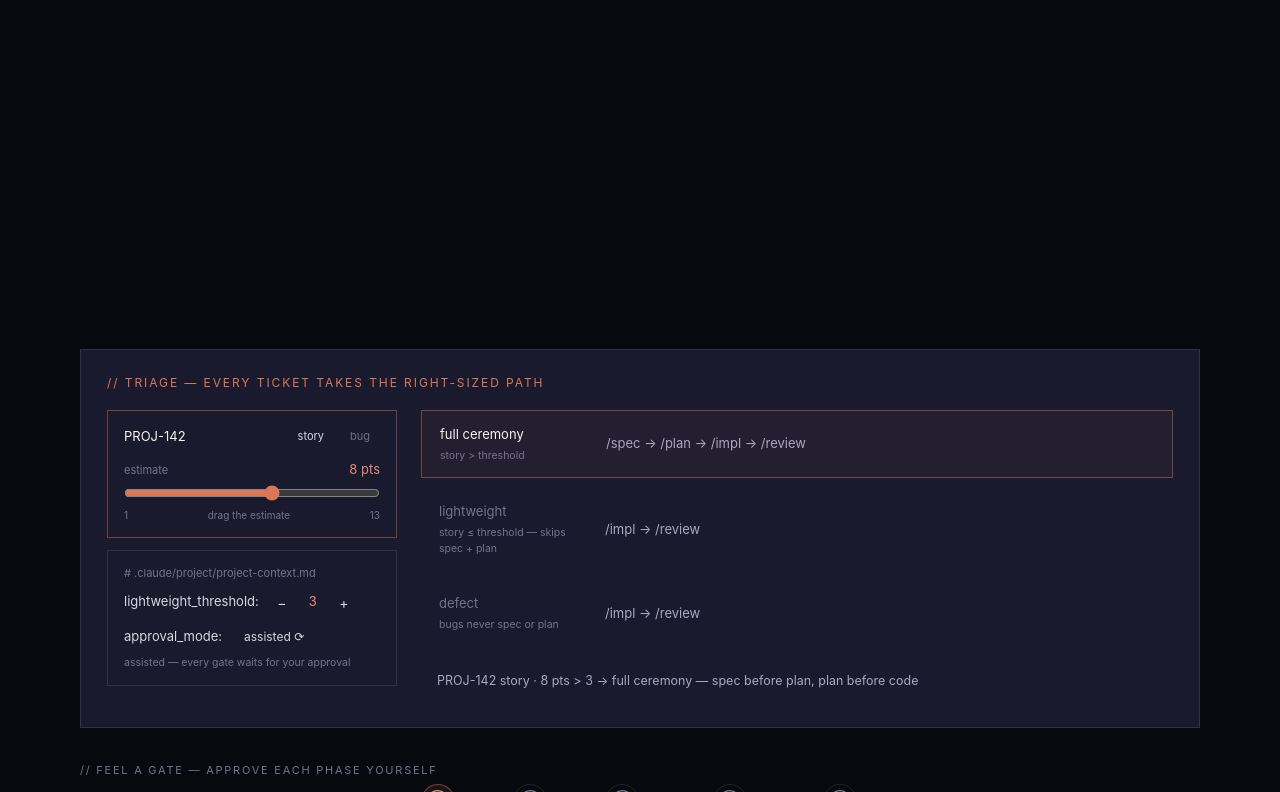
Test: ControlSection › AC4: a config change re-syncs triage lanes, gate count, and the right-terminal route name together, and restarts the gate walk at gate 0
Click the button named "increase lightweight threshold".
click(344, 602)  # box [331,589,357,615]
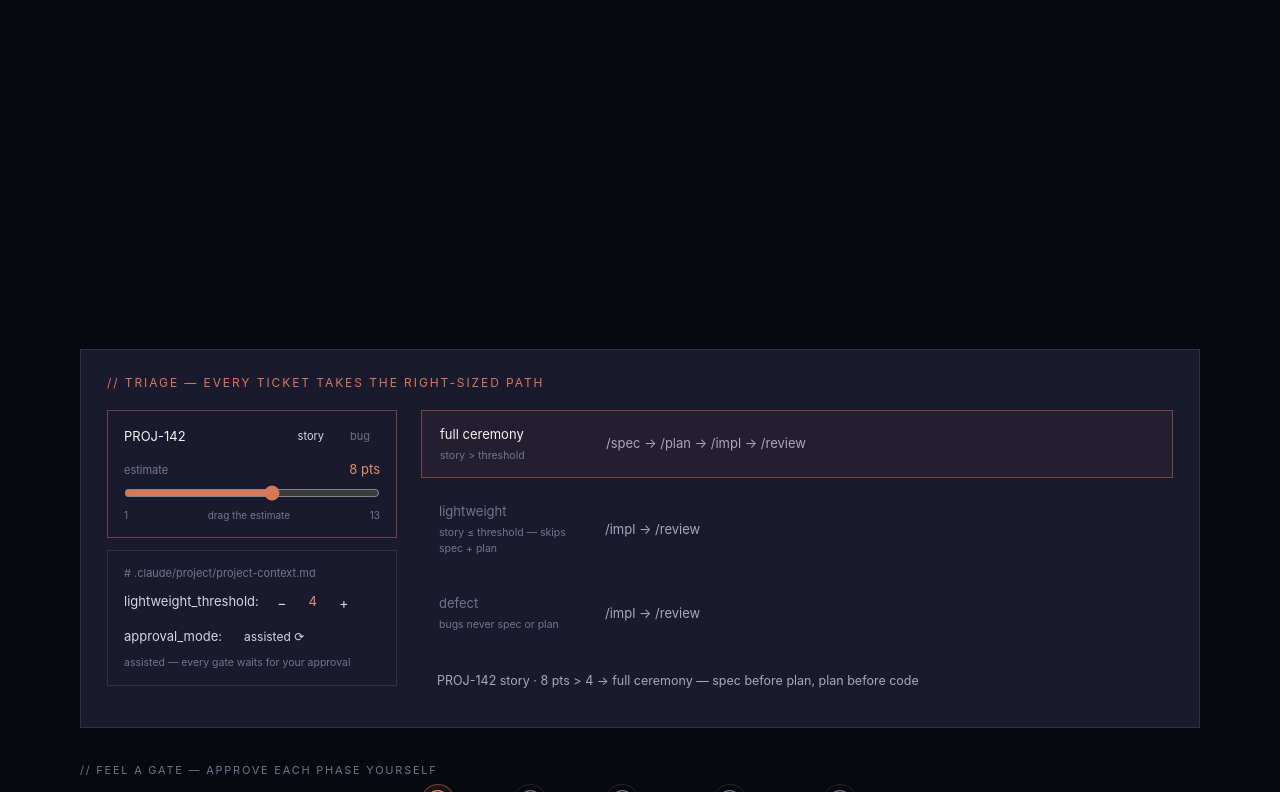
Click the button named "increase lightweight threshold".
click(344, 602)  # box [331,589,357,615]
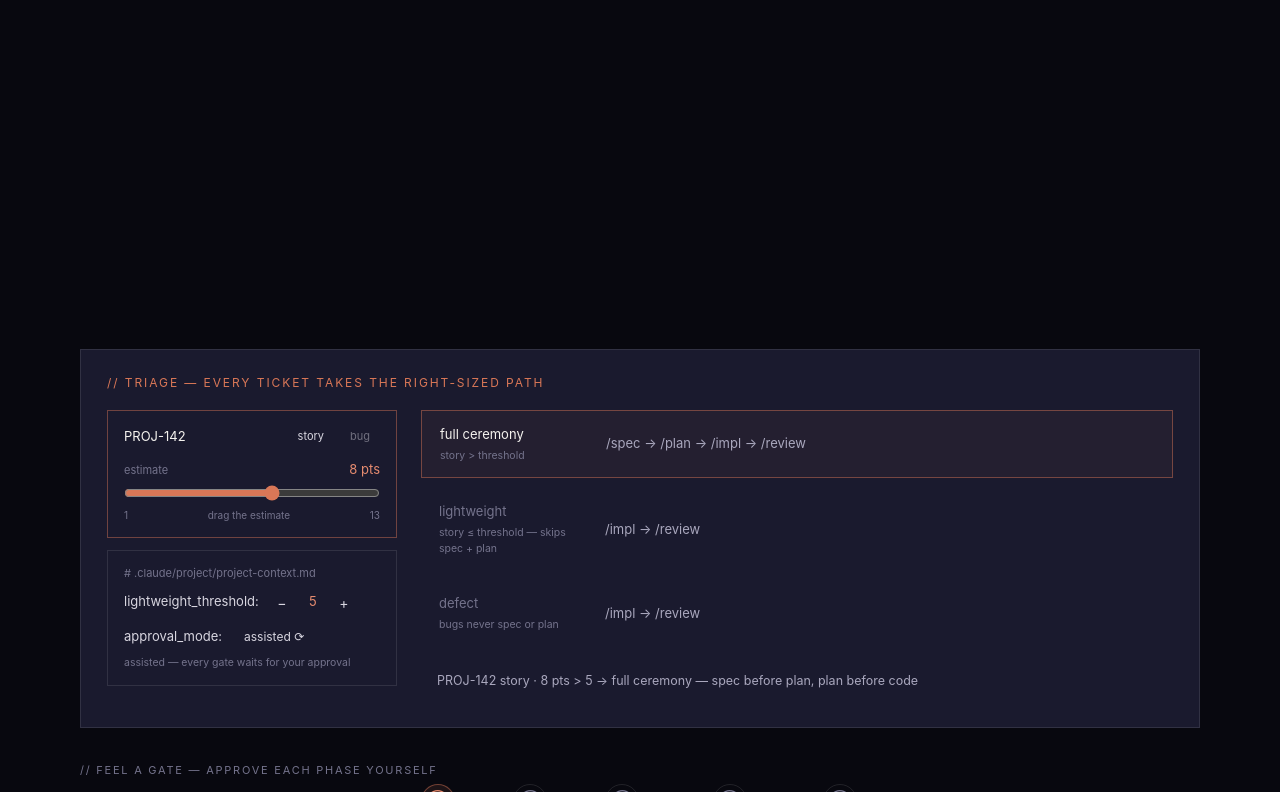
Click the button named "increase lightweight threshold".
click(344, 602)  # box [331,589,357,615]
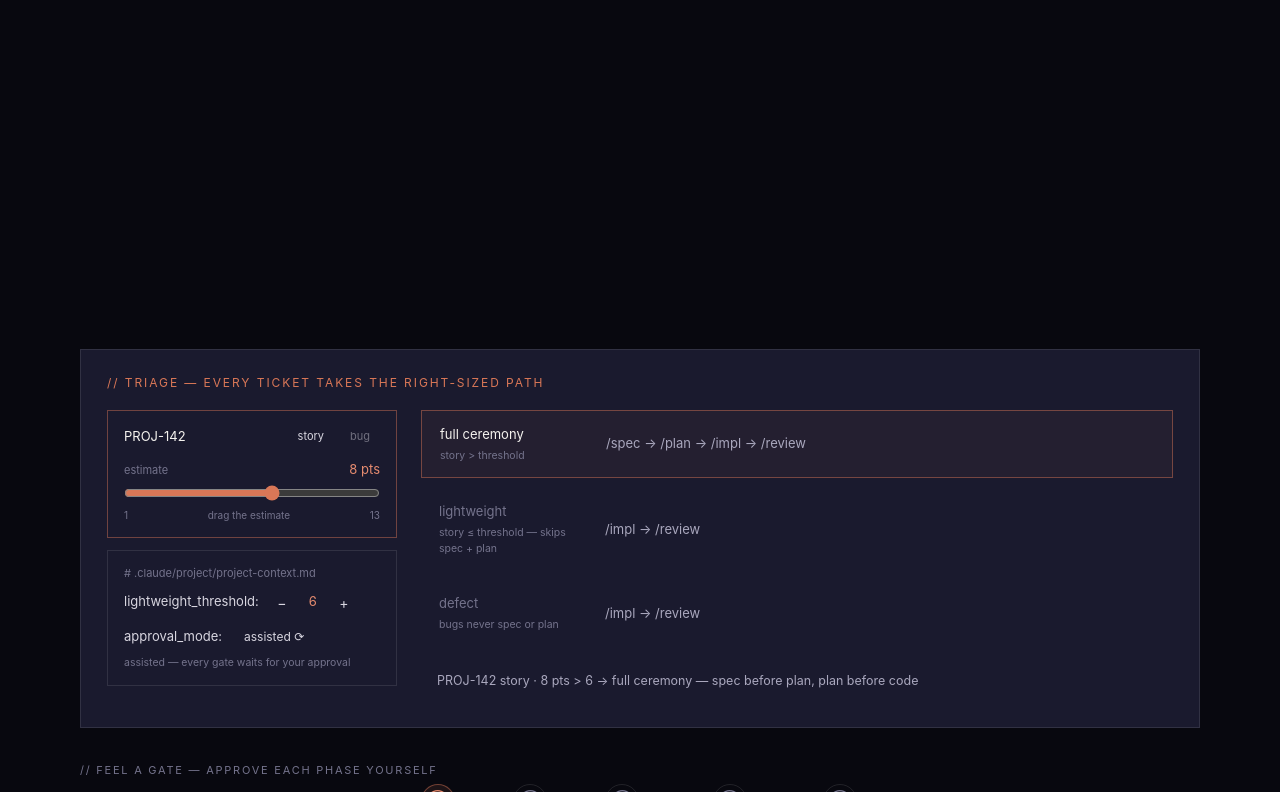
Click the button named "increase lightweight threshold".
click(344, 602)  # box [331,589,357,615]
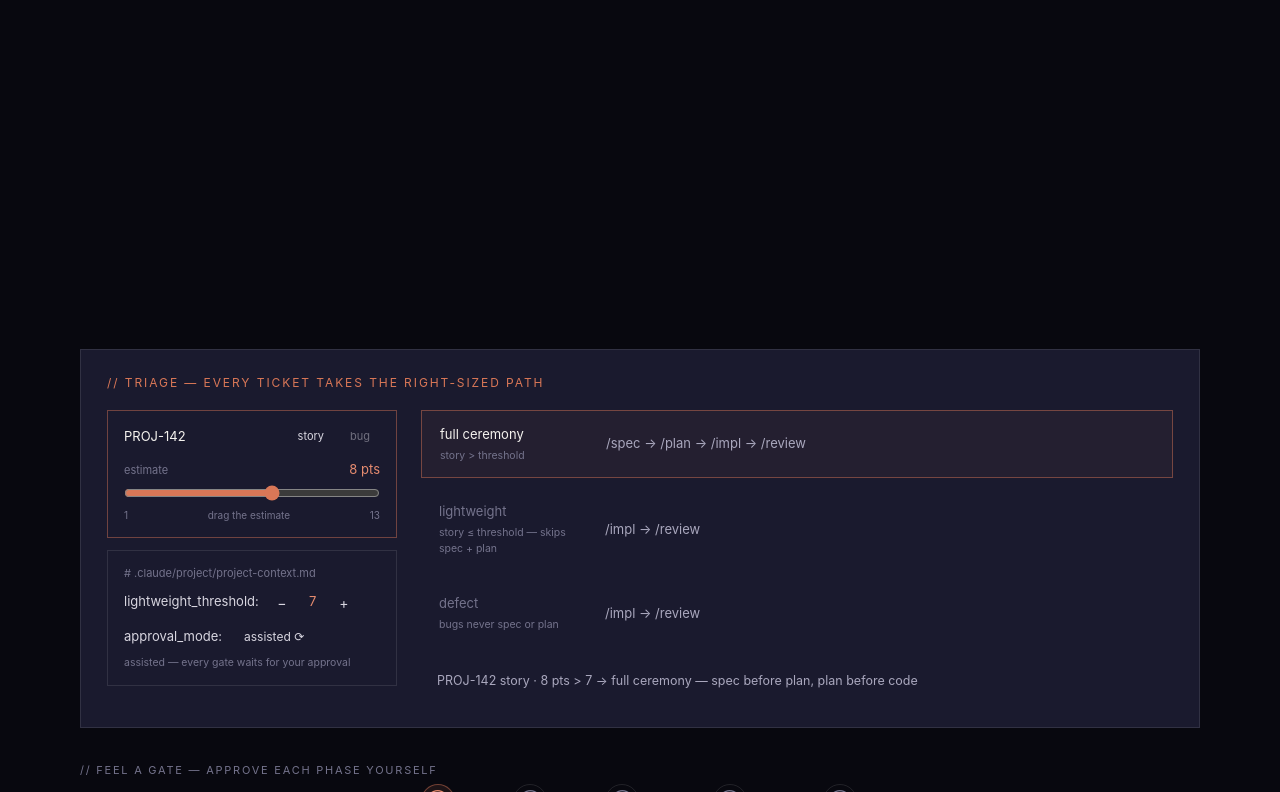
Click the button named "increase lightweight threshold".
click(344, 602)  # box [331,589,357,615]
(page scrolled)
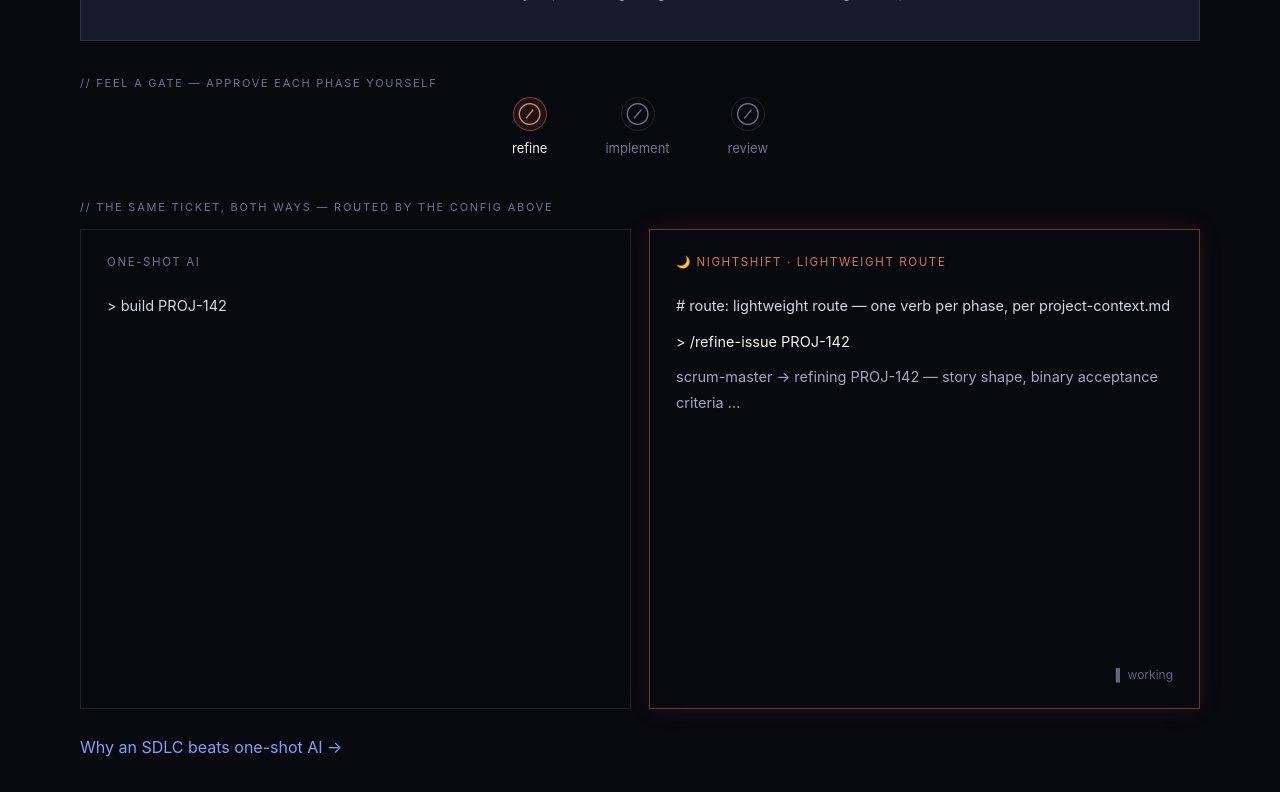
Expected: the text "spec" is not shown
Now the text "🌙 nightshift · lightweight route" is shown, box [676,255,946,269]
Now the text "refining PROJ-142" is shown, box [676,368,1158,411]
